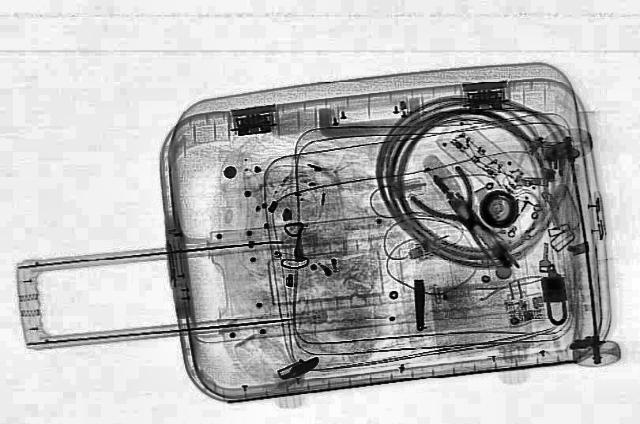Pliers: (398, 164, 532, 268)
